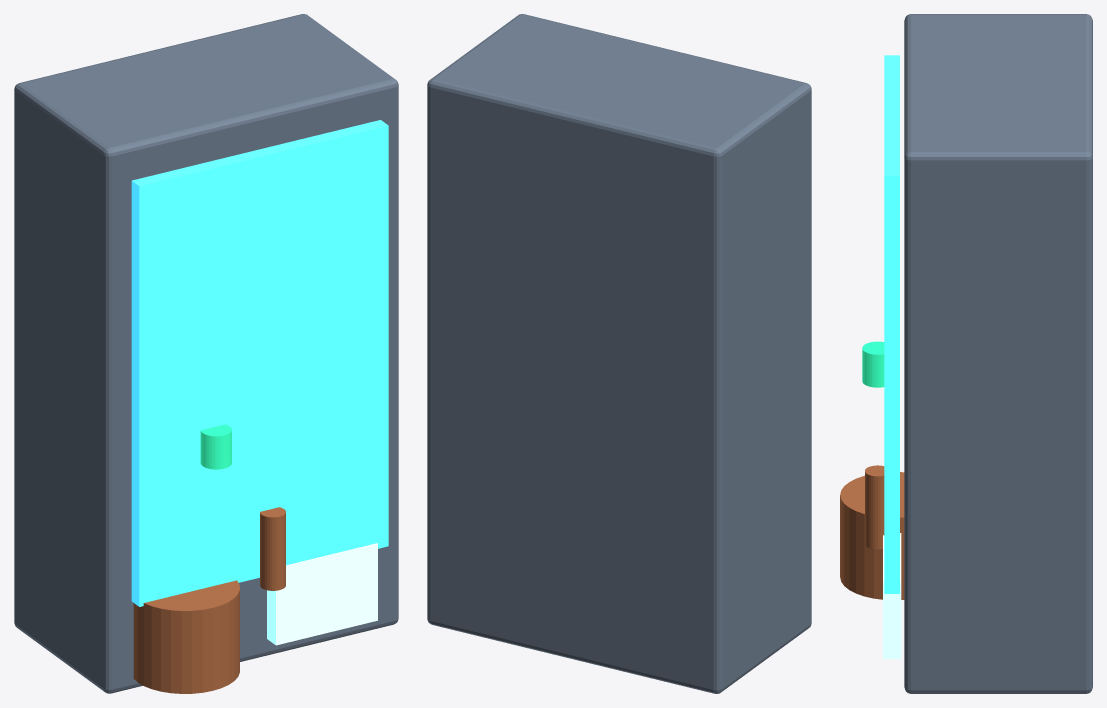
File: reach-in-training.glb
3 renders of one model, left to right at view 1: azimuth 30°, elevation 25°; view 2: azimuth 150°, elevation 25°; view 3: azimuth 270°, elevation 25°, orthographic.
Visible parts, largest first — view 1: REACH_IN_CABINET, DOOR, COMP_COMPRESSOR, COMP_CONDENSER, COMP_FILTER_DRIER, COMP_METERING_DEVICE; view 2: REACH_IN_CABINET; view 3: REACH_IN_CABINET, DOOR, COMP_COMPRESSOR, COMP_FILTER_DRIER, COMP_CONDENSER, COMP_METERING_DEVICE.
Boxes of the visible parts, x1=… form: REACH_IN_CABINET: x1=14, y1=14, x2=398, y2=693; DOOR: x1=131, y1=120, x2=388, y2=606; COMP_COMPRESSOR: x1=133, y1=580, x2=239, y2=693; COMP_CONDENSER: x1=267, y1=543, x2=377, y2=645; COMP_FILTER_DRIER: x1=260, y1=507, x2=285, y2=590; COMP_METERING_DEVICE: x1=200, y1=424, x2=231, y2=469; REACH_IN_CABINET: x1=427, y1=14, x2=811, y2=693; REACH_IN_CABINET: x1=904, y1=14, x2=1092, y2=693; DOOR: x1=884, y1=55, x2=899, y2=593; COMP_COMPRESSOR: x1=840, y1=472, x2=904, y2=599; COMP_FILTER_DRIER: x1=865, y1=465, x2=884, y2=549; COMP_CONDENSER: x1=883, y1=533, x2=901, y2=658; COMP_METERING_DEVICE: x1=862, y1=341, x2=884, y2=387.
Size of the model in its own units: 2.6 by 4.6 by 1.95.
